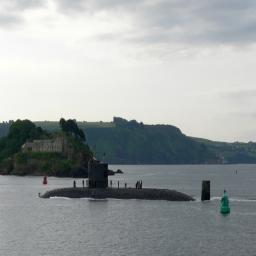submarine: (37, 161, 216, 199)
